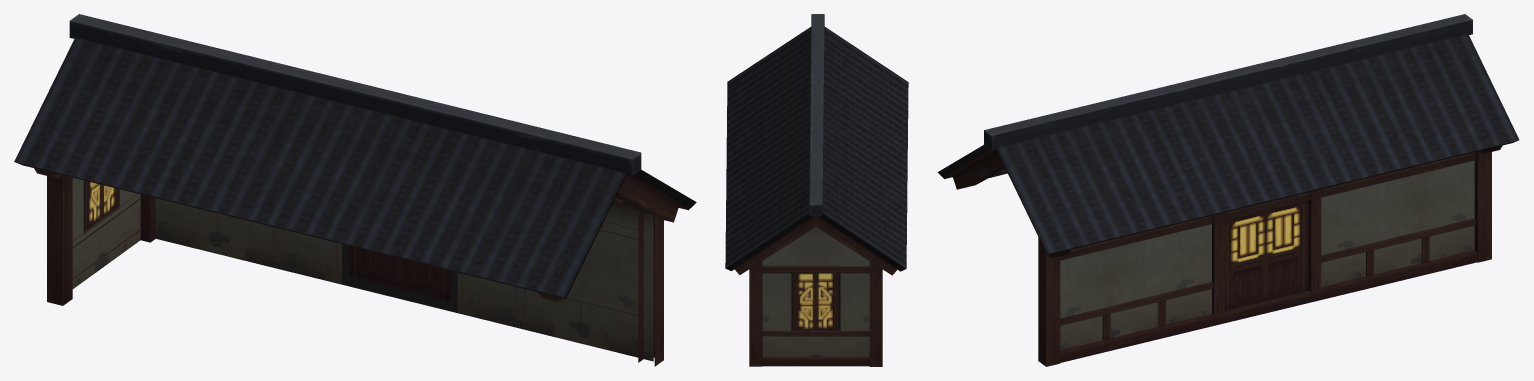
Rendered from Area_03_11.fbx.
3 views of the same model, side by side, from view 1: azimuth 30°, elevation 25°; view 2: azimuth 150°, elevation 25°; view 3: azimuth 270°, elevation 25° (orthographic). The views are drawn at different scales.
Parts seen in each view (by area): view 1: Area_03_11; view 2: Area_03_11; view 3: Area_03_11.
Part boxes in pixels (<box>): Area_03_11: <box>14,14,696,366</box>; Area_03_11: <box>725,14,908,366</box>; Area_03_11: <box>937,14,1519,366</box>.
Bounding box in the file's own units: 1723 × 855 × 2168.
